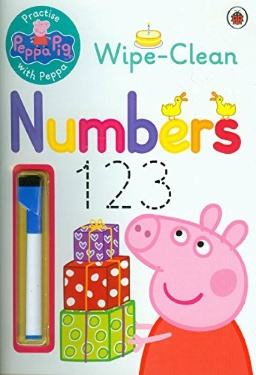Peppa: (121, 202, 254, 375)
